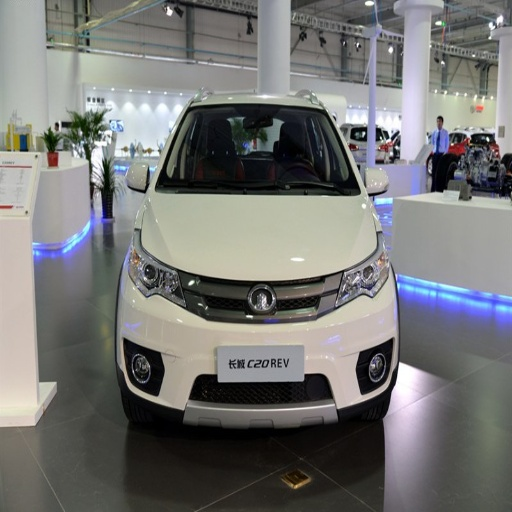front_bumper: (121, 270, 399, 423)
front_right_light: (126, 242, 186, 306)
hood: (146, 191, 376, 278)
